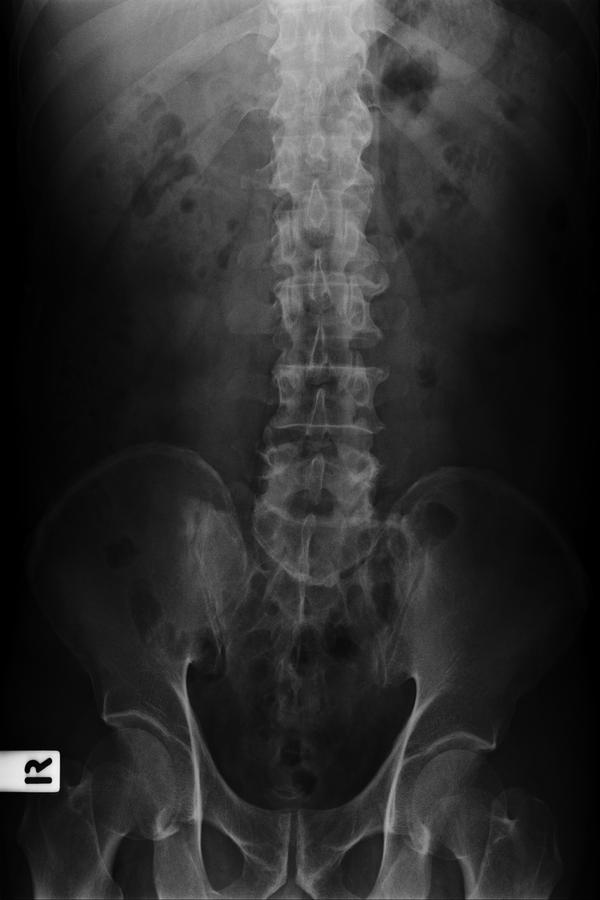not lumbar scoliosis: (248, 212, 395, 593)
